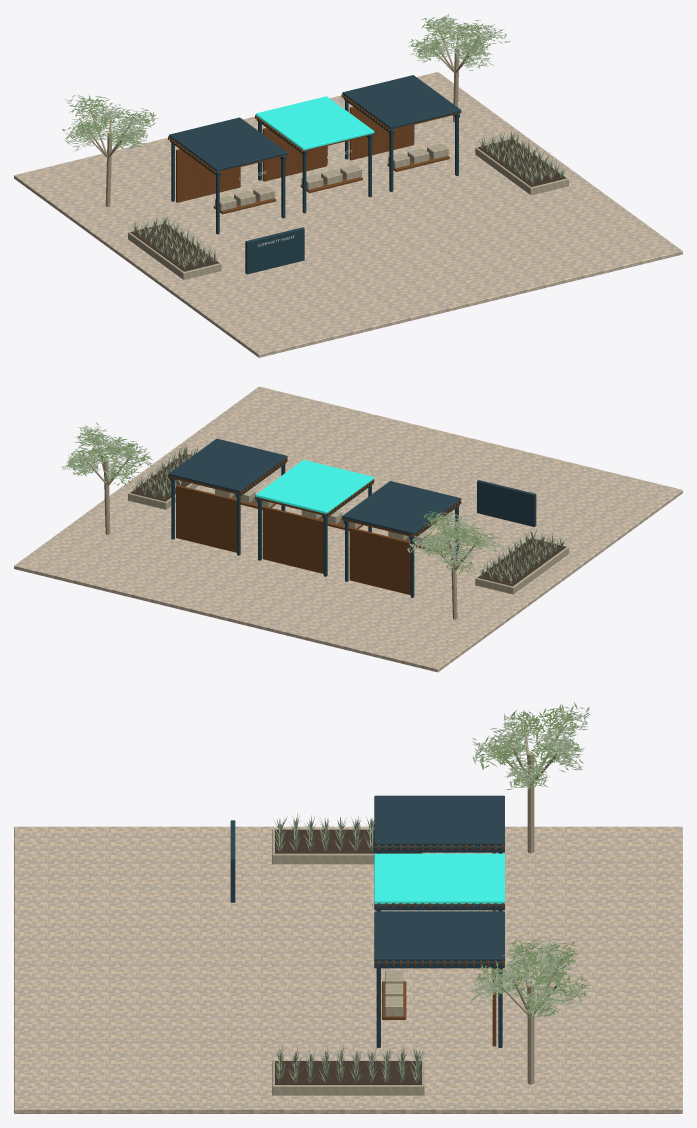
File: market.glb
3 views of the same model, one above another, from view 1: azimuth 30°, elevation 25°; view 2: azimuth 150°, elevation 25°; view 3: azimuth 270°, elevation 25° (orthographic). The views are drawn at different scales.
Parts seen in each view (by area): view 1: Whole item paving.009, Stall canopy.001, Stall canopy.002, Stall canopy, Place identity.004, Stall rear, Stall rear.001, Mulch.022, Mulch.023, Stall rear.002, Garden edge.022, Garden edge.023; view 2: Whole item paving.009, Stall canopy.001, Stall canopy.002, Stall canopy, Stall rear.001, Stall rear, Stall rear.002, Place identity.004, Mulch.022, Garden edge.022, Mulch.023, Garden edge.023; view 3: Whole item paving.009, Stall canopy, Stall canopy.001, Stall canopy.002, Mulch.023, Mulch.022, Garden edge.023, Garden edge.022, Shade beam.015, Shade beam.013, Shade beam.011, branch.144 (+1 smaller).
Boxes of the visible parts, x1,y1,x2,y2 form: Whole item paving.009: (14, 72, 682, 357); Stall canopy.001: (255, 96, 374, 150); Stall canopy.002: (342, 75, 461, 129); Stall canopy: (169, 117, 287, 171); Place identity.004: (245, 227, 304, 274); Stall rear: (176, 149, 240, 202); Stall rear.001: (262, 127, 327, 181); Mulch.022: (130, 223, 218, 271); Mulch.023: (477, 139, 566, 186); Stall rear.002: (349, 106, 413, 160); Garden edge.022: (128, 223, 221, 279); Garden edge.023: (475, 138, 568, 194); Whole item paving.009: (14, 386, 682, 672); Stall canopy.001: (255, 459, 374, 513); Stall canopy.002: (169, 438, 287, 492); Stall canopy: (342, 481, 461, 535); Stall rear.001: (262, 506, 323, 573); Stall rear: (349, 527, 410, 594); Stall rear.002: (176, 485, 236, 552); Place identity.004: (477, 480, 536, 526); Mulch.022: (477, 538, 566, 586); Garden edge.022: (475, 538, 568, 594); Mulch.023: (130, 454, 192, 501); Garden edge.023: (128, 453, 199, 509); Whole item paving.009: (14, 826, 682, 1113); Stall canopy: (374, 795, 504, 845); Stall canopy.001: (374, 853, 504, 903); Stall canopy.002: (374, 911, 504, 961); Mulch.023: (275, 1061, 421, 1084); Mulch.022: (275, 829, 421, 853); Garden edge.023: (272, 1060, 424, 1095); Garden edge.022: (272, 829, 424, 864); Shade beam.015: (374, 961, 504, 968); Shade beam.013: (374, 904, 504, 910); Shade beam.011: (374, 846, 504, 852); branch.144: (527, 752, 534, 853).
Bounding box in the file's own units: 22.47 × 5.17 × 22.
10 materials, 3 textured.
